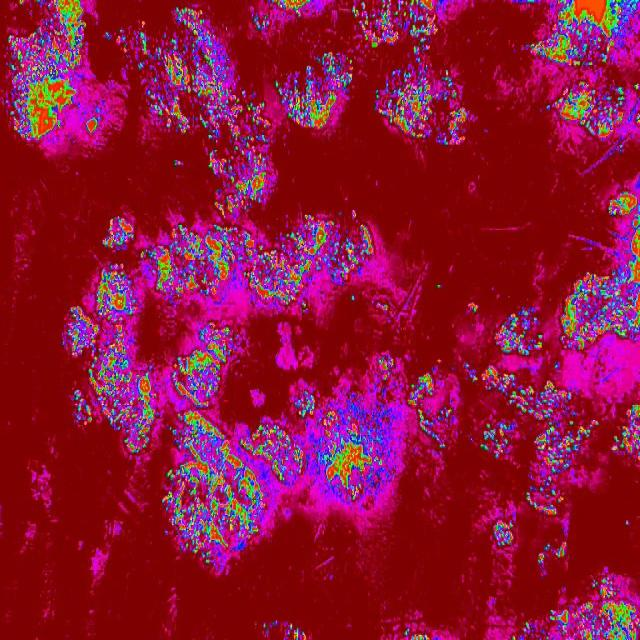fire: (160, 407, 310, 569), (156, 209, 374, 307), (61, 263, 156, 452), (119, 5, 232, 134), (7, 0, 87, 145), (309, 406, 403, 514), (525, 380, 599, 516), (524, 0, 638, 70), (374, 64, 465, 146), (561, 268, 640, 352), (274, 51, 353, 131), (172, 319, 244, 405), (206, 132, 272, 214), (544, 78, 625, 136), (349, 0, 442, 48), (582, 571, 640, 640), (493, 306, 546, 355), (483, 364, 526, 414), (416, 406, 457, 449), (233, 88, 270, 132), (477, 420, 518, 459), (611, 403, 640, 458), (538, 605, 582, 640), (406, 371, 436, 409), (102, 218, 135, 252), (534, 542, 566, 574), (606, 188, 637, 214), (268, 0, 314, 16), (491, 517, 514, 549), (627, 216, 640, 266), (376, 354, 397, 380), (509, 620, 534, 640), (402, 626, 434, 640), (286, 622, 310, 640), (462, 359, 478, 383), (295, 389, 318, 405), (262, 618, 282, 636), (252, 14, 272, 31), (88, 112, 101, 136), (140, 244, 157, 262), (374, 302, 388, 316), (170, 156, 184, 170), (414, 48, 427, 62), (468, 302, 480, 316), (633, 113, 640, 128), (104, 30, 112, 41), (632, 83, 640, 93), (623, 518, 630, 528), (434, 283, 442, 291)
